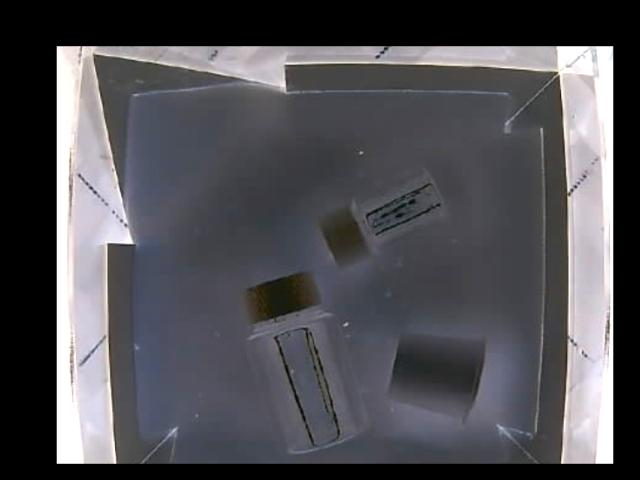Bottle: (242, 272, 370, 454), (318, 172, 442, 268)
Cup: (384, 333, 488, 424)
